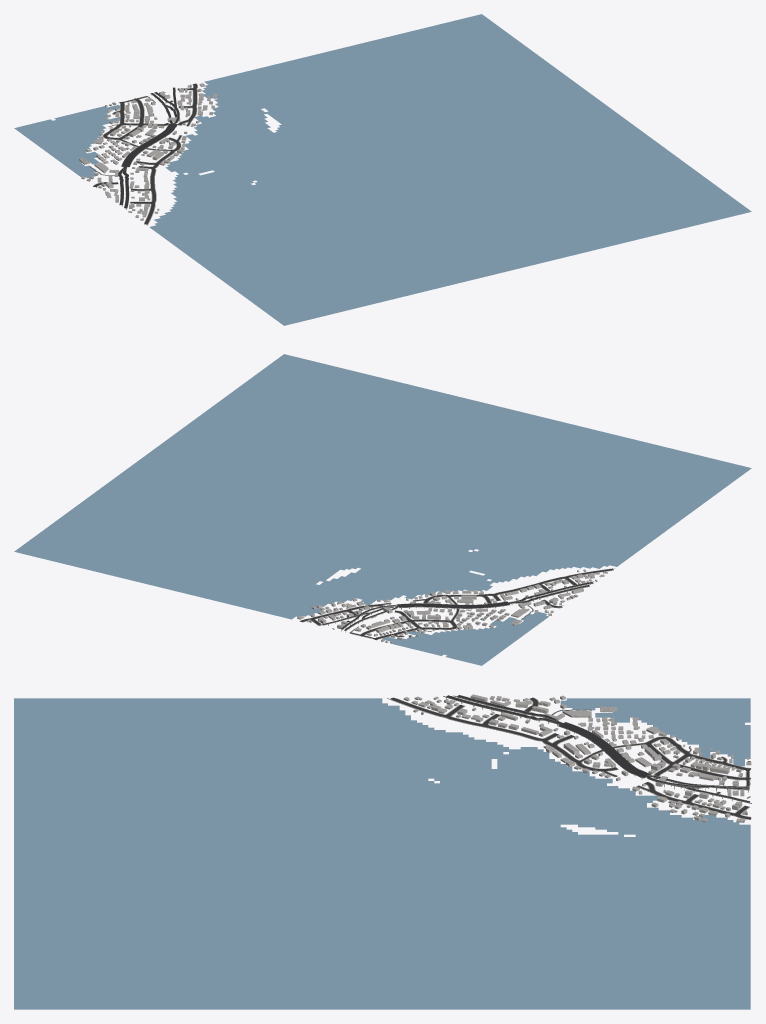
The model's file is chunk_7_8.glb.
3 renders of one model, top to bottom at view 1: azimuth 30°, elevation 25°; view 2: azimuth 150°, elevation 25°; view 3: azimuth 270°, elevation 25°, orthographic. The views are drawn at different scales.
Visible parts, largest first — view 1: Water_7_8, Filler_7_8, Roads_7_8, RoadSides_7_8, Buildings_7_8; view 2: Water_7_8, Filler_7_8, Roads_7_8, RoadSides_7_8, Buildings_7_8; view 3: Water_7_8, Filler_7_8, Roads_7_8, RoadSides_7_8, Buildings_7_8.
Part boxes in pixels (x1,y1,x2,y2): Water_7_8: [14, 14, 751, 325]; Filler_7_8: [85, 83, 217, 220]; Roads_7_8: [90, 83, 197, 224]; RoadSides_7_8: [93, 83, 197, 225]; Buildings_7_8: [79, 84, 212, 213]; Water_7_8: [14, 354, 751, 665]; Filler_7_8: [297, 571, 607, 634]; Roads_7_8: [300, 568, 613, 642]; RoadSides_7_8: [299, 568, 614, 642]; Buildings_7_8: [307, 569, 597, 643]; Water_7_8: [14, 698, 750, 1009]; Filler_7_8: [403, 694, 745, 822]; Roads_7_8: [390, 695, 751, 819]; RoadSides_7_8: [387, 695, 751, 819]; Buildings_7_8: [413, 695, 751, 817].
Size of the model in its own units: 2054 by 17.41 by 2051.
